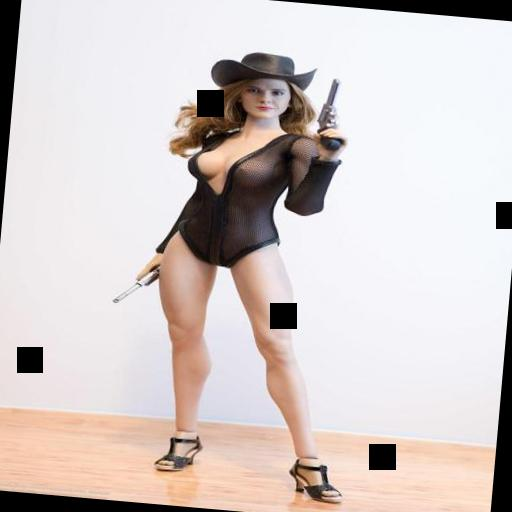Handgun: (306, 72, 359, 152), (104, 258, 174, 313)
